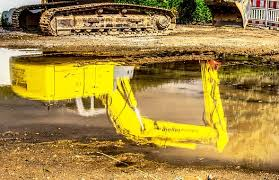excavator: (8, 52, 229, 157)
